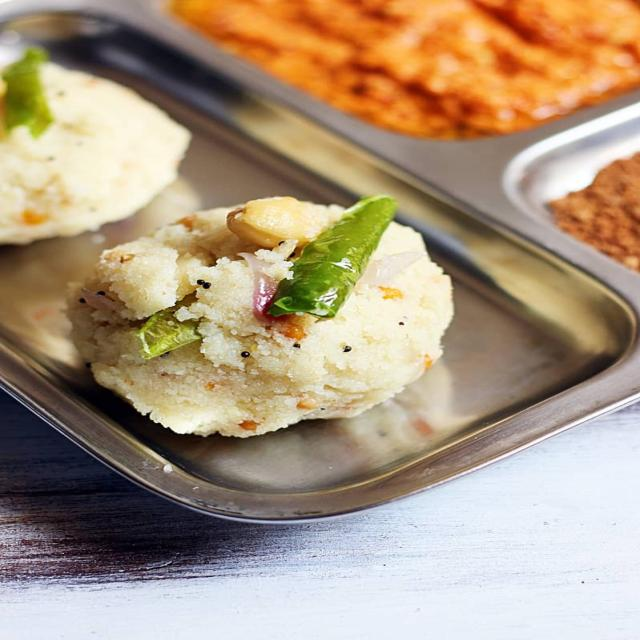UPMA: (66, 199, 451, 434)
